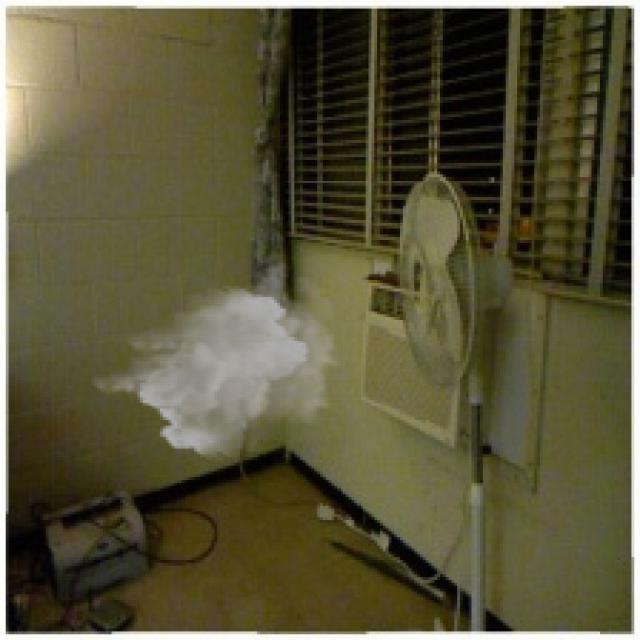smoke: (88, 260, 343, 460)
